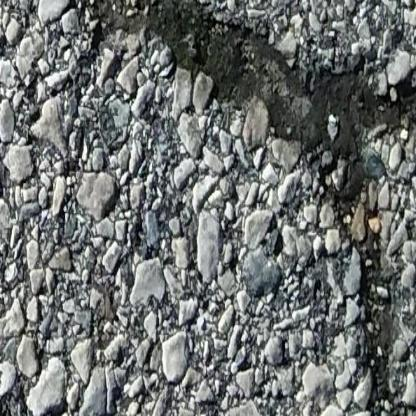Cracks: (67, 0, 416, 406)
